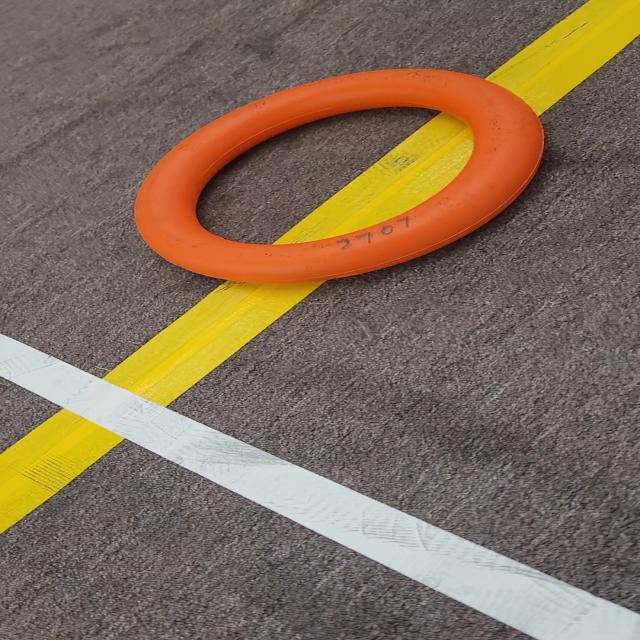note: (124, 62, 569, 301)
